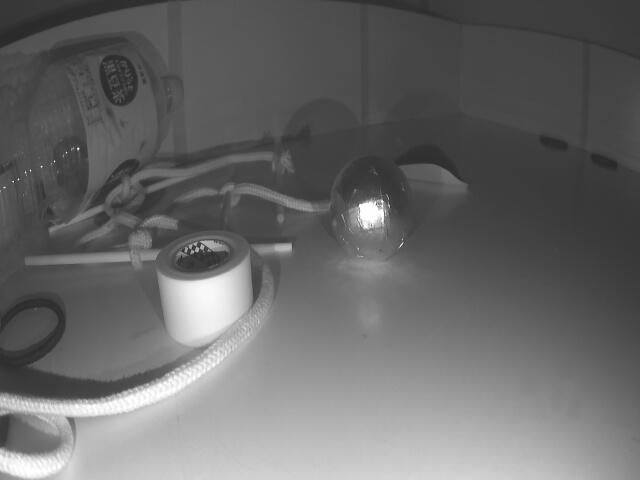Live: (327, 156, 413, 260)
